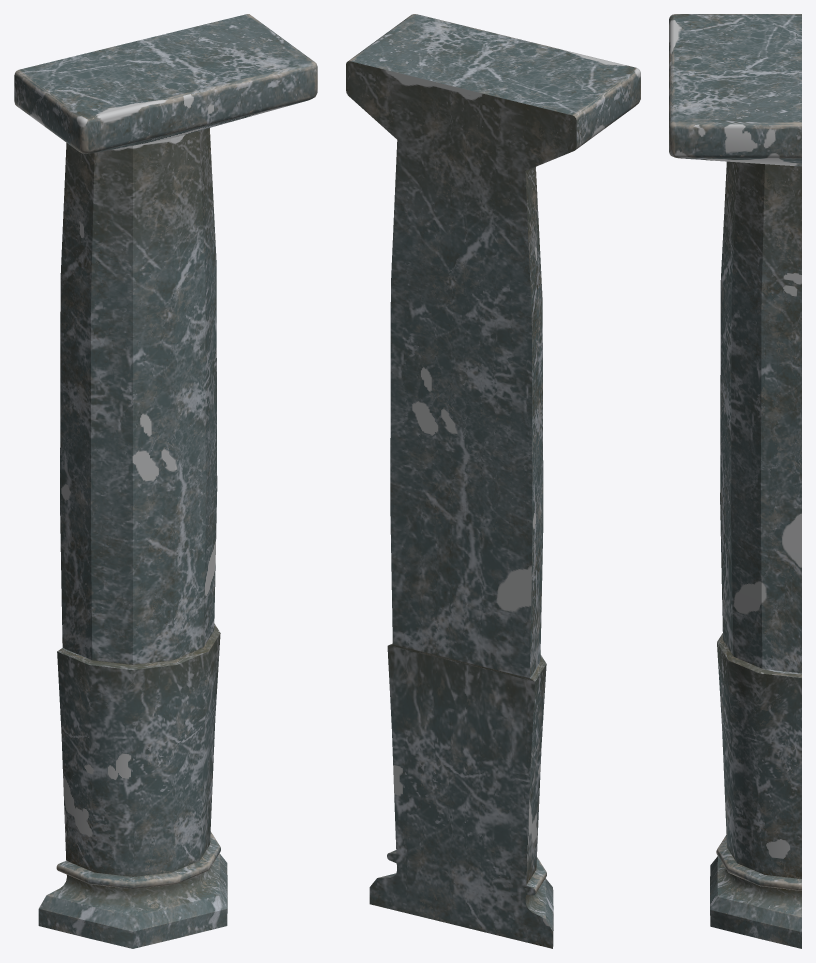
The model's file is Pillar_SplitV2.fbx.
The picture shows the model from 3 angles, left to right: view 1: azimuth 30°, elevation 25°; view 2: azimuth 150°, elevation 25°; view 3: azimuth 270°, elevation 25°; orthographic projection. The views are drawn at different scales.
Visible parts, largest first — view 1: Pillar_Split; view 2: Pillar_Split; view 3: Pillar_Split.
Boxes of the visible parts, left/top/right/bottom form: Pillar_Split: left=14, top=14, right=317, bottom=948; Pillar_Split: left=346, top=14, right=640, bottom=948; Pillar_Split: left=669, top=14, right=801, bottom=948.
Size of the model in its own units: 144 by 500 by 72.
